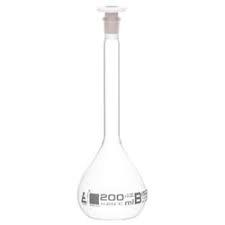Volumetric flask: (59, 10, 155, 222)
